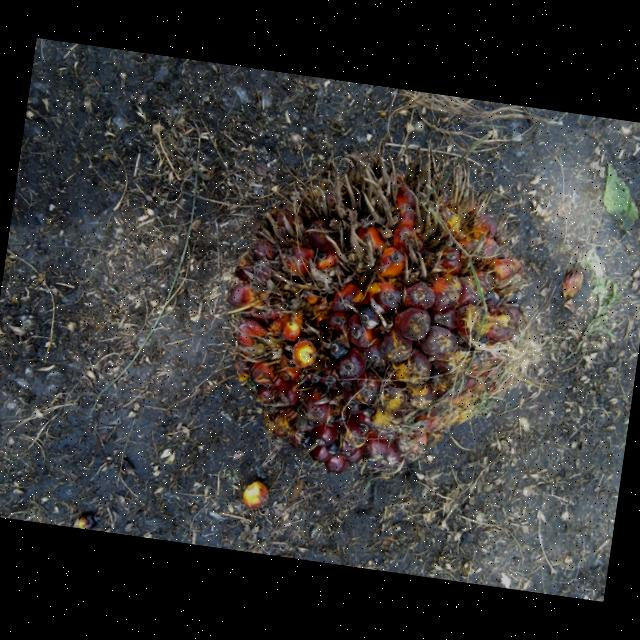Ripe: (230, 162, 521, 477)
